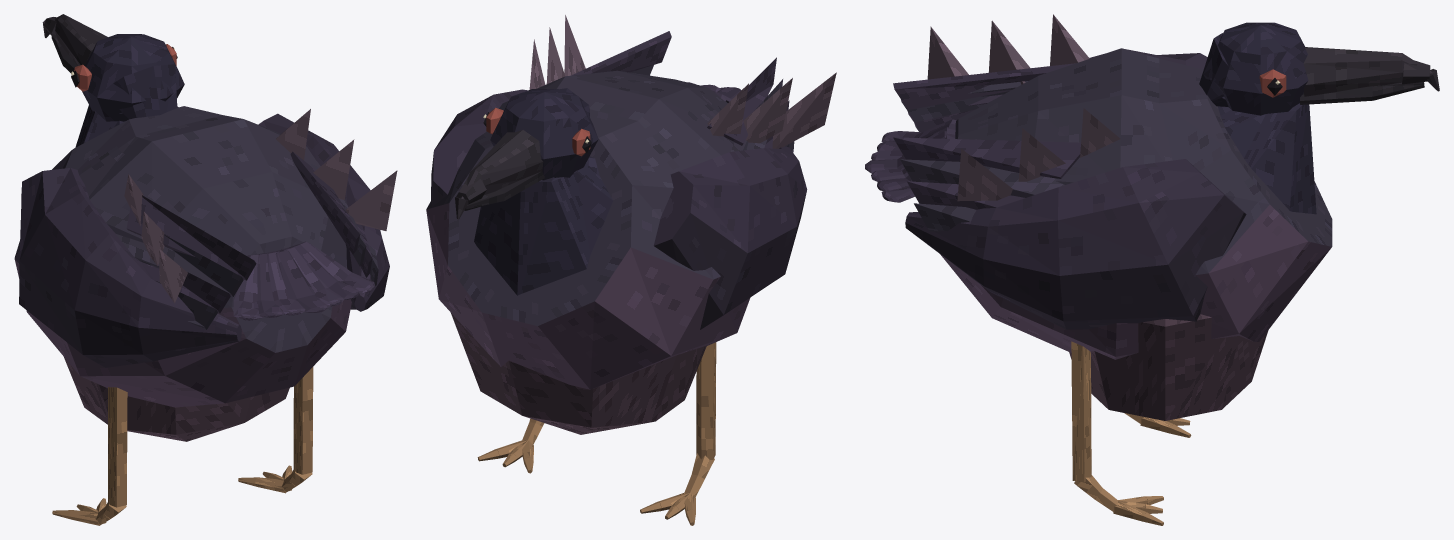
File: mon_crow_mutant.glb
The picture shows the model from 3 angles, left to right: view 1: azimuth 30°, elevation 25°; view 2: azimuth 150°, elevation 25°; view 3: azimuth 270°, elevation 25°; orthographic projection. The views are drawn at different scales.
Visible parts, largest first — view 1: closed_body; view 2: closed_body; view 3: closed_body.
Part boxes in pixels (x1,y1,x2,y2): closed_body: (14, 14, 397, 525); closed_body: (426, 15, 836, 525); closed_body: (865, 14, 1439, 525).
Bounding box in the file's own units: 0.5003 × 0.653 × 0.7646.
Materials: 1 (1 with a texture image).
